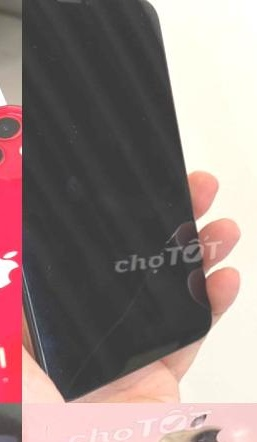scratch: (44, 262, 61, 290), (186, 434, 227, 442), (22, 0, 56, 6)
